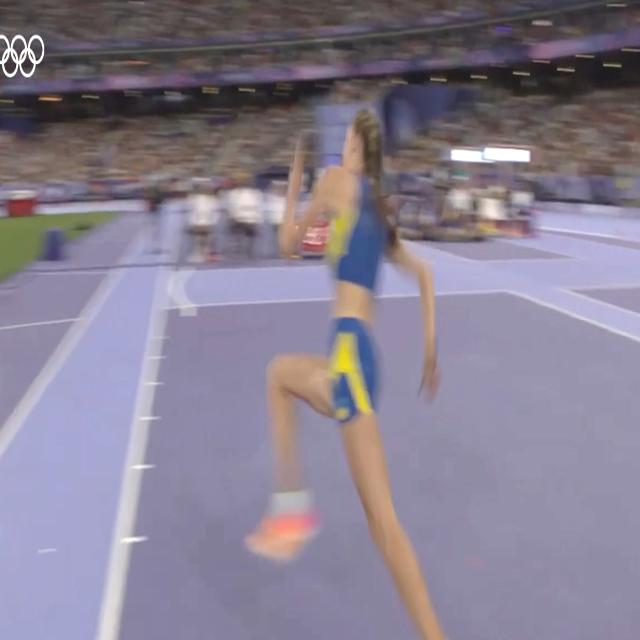run: (241, 106, 481, 640)
